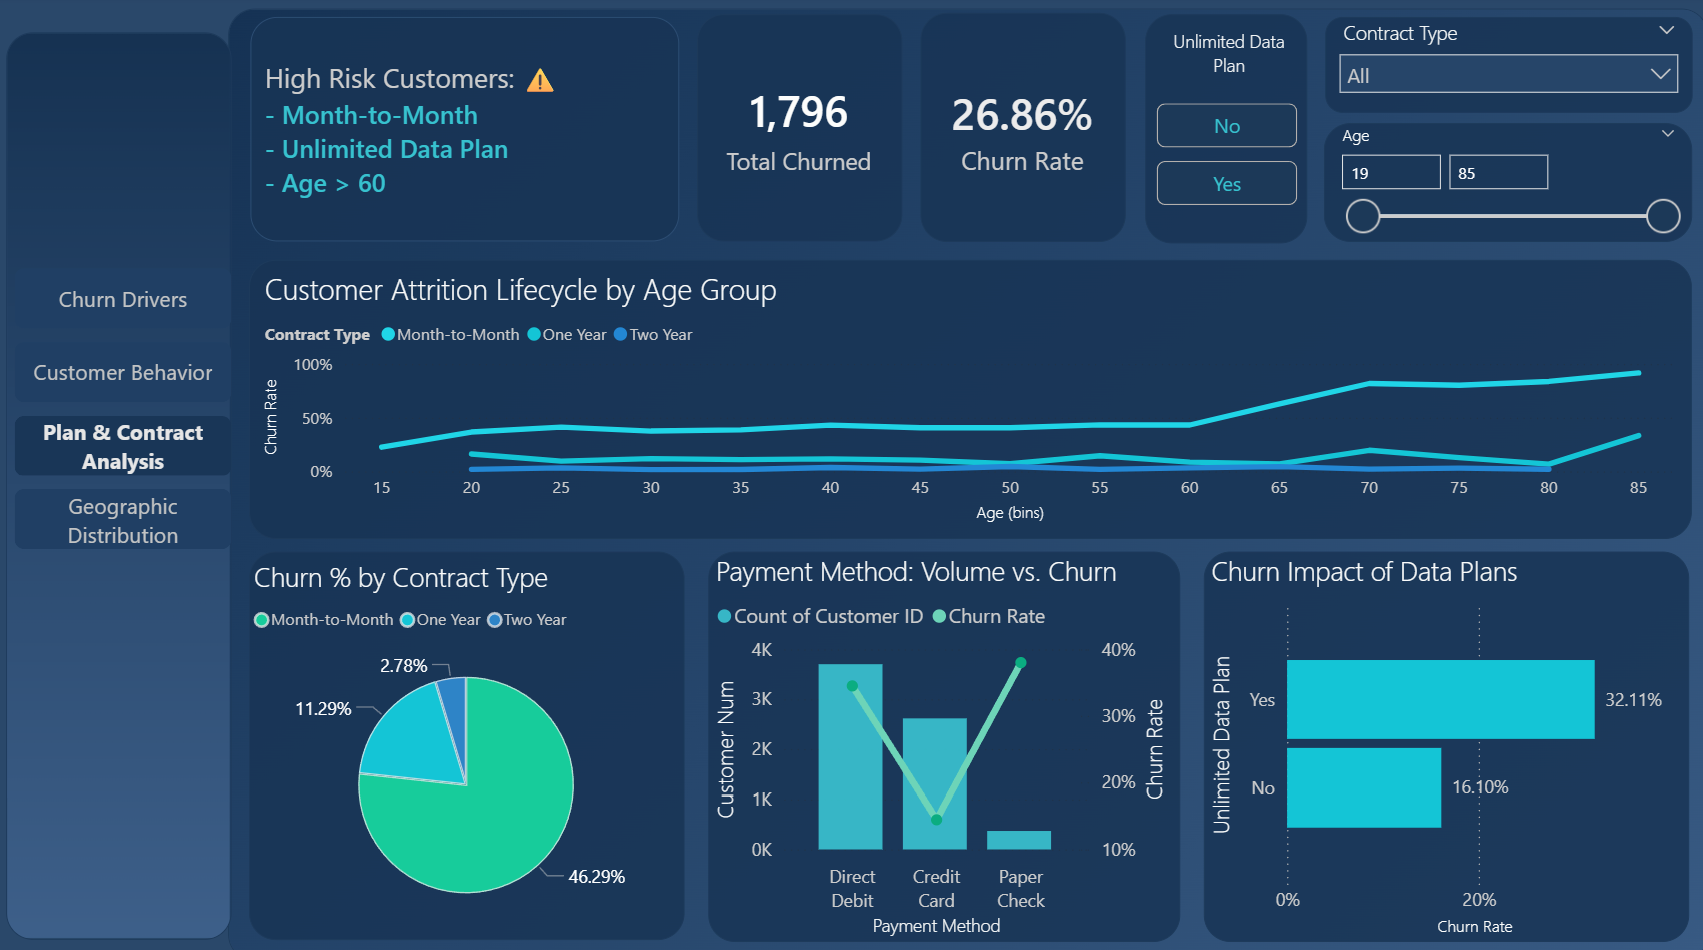

Layout of this report page (visuals, bound fields, positions):
{"tool":"powerbi","page":{"name":"Plan & Contract Analysis","canvas":[1280,720],"ordinal":2},"visuals":[{"type":"image","box":[174.2,9.4,1105.3,711],"z":0},{"type":"image","box":[8.2,27.1,168.3,676.9],"z":0,"group":"g1"},{"type":"pieChart","title":"Churn % by Contract Type","fields":{"Category":["Dim_Contract_Services.Contract Type"],"Y":["_Calculations.Churn Rate"]},"box":[190.2,414.4,325,289.6],"z":1000},{"type":"clusteredBarChart","title":"Churn Impact of Data Plans","fields":{"Y":["_Calculations.Churn Rate"],"Category":["Dim_Contract_Services.Unlimited Data Plan","Dim_Contract_Services.Contract Type"]},"box":[902.7,414.4,362.3,290.8],"z":2000},{"type":"lineChart","title":"Customer Attrition Lifecycle by Age Group","fields":{"Series":["Dim_Contract_Services.Contract Type"],"Category":["Dim_customer.Age (bins)"],"Y":["_Calculations.Churn Rate"]},"box":[190.2,197.5,1077.2,208.4],"z":3000},{"type":"pageNavigator","box":[14.1,203.7,162.4,210.7],"z":3500,"group":"g1"},{"type":"lineStackedColumnComboChart","title":"Payment Method: Volume vs. Churn","fields":{"Category":["Dim_Contract_Services.Payment Method"],"Y2":["_Calculations.Churn Rate"],"Y":["CountNonNull(Dim_Churn.Customer ID)"]},"box":[533.1,414.4,352.6,290.8],"z":4000},{"type":"cardVisual","title":"dddd","fields":{"Data":["_Calculations.Churn Rate (Ignore Filter)"]},"box":[691.5,12.5,153.2,171],"z":5000},{"type":"card","fields":{"Values":["_Calculations.Total Churned"]},"box":[524.4,13.6,153.2,169.9],"z":6000},{"type":"advancedSlicerVisual","fields":{"Values":["Dim_Contract_Services.Unlimited Data Plan"]},"box":[858.6,13.6,120.9,171],"z":7000},{"type":"cardVisual","fields":{"Data":["Dim_Churn.⚠️ High Risk Profile"]},"box":[190.5,15.6,320,167.8],"z":8000},{"type":"slicer","fields":{"Values":["Dim_Contract_Services.Contract Type"]},"box":[993.4,15.6,274.1,71.9],"z":9000},{"type":"slicer","fields":{"Values":["Dim_customer.Age"]},"box":[992.4,94.9,275.2,88.6],"z":10000},{"type":"group","id":"g1","title":"Group 1","box":[8.2,27.1,168.3,676.9],"z":11000}]}

Visuals, with their boxes in screenshot pixels (x1, y1, x2, y2), scaled from the page's 1280x720 canvas onto the 1703x950 screenshot:
image: (232, 12, 1702, 949)
image: (11, 36, 235, 929)
"Churn % by Contract Type" pieChart: (253, 547, 685, 929)
"Churn Impact of Data Plans" clusteredBarChart: (1201, 547, 1683, 930)
"Customer Attrition Lifecycle by Age Group" lineChart: (253, 261, 1686, 536)
pageNavigator: (19, 269, 235, 547)
"Payment Method: Volume vs. Churn" lineStackedColumnComboChart: (709, 547, 1178, 930)
"dddd" cardVisual: (920, 16, 1124, 242)
card - _Calculations.Total Churned: (698, 18, 902, 242)
advancedSlicerVisual - Dim_Contract_Services.Unlimited Data Plan: (1142, 18, 1303, 244)
cardVisual - Dim_Churn.⚠️ High Risk Profile: (253, 21, 679, 242)
slicer - Dim_Contract_Services.Contract Type: (1322, 21, 1686, 115)
slicer - Dim_customer.Age: (1320, 125, 1687, 242)
"Group 1" group: (11, 36, 235, 929)
